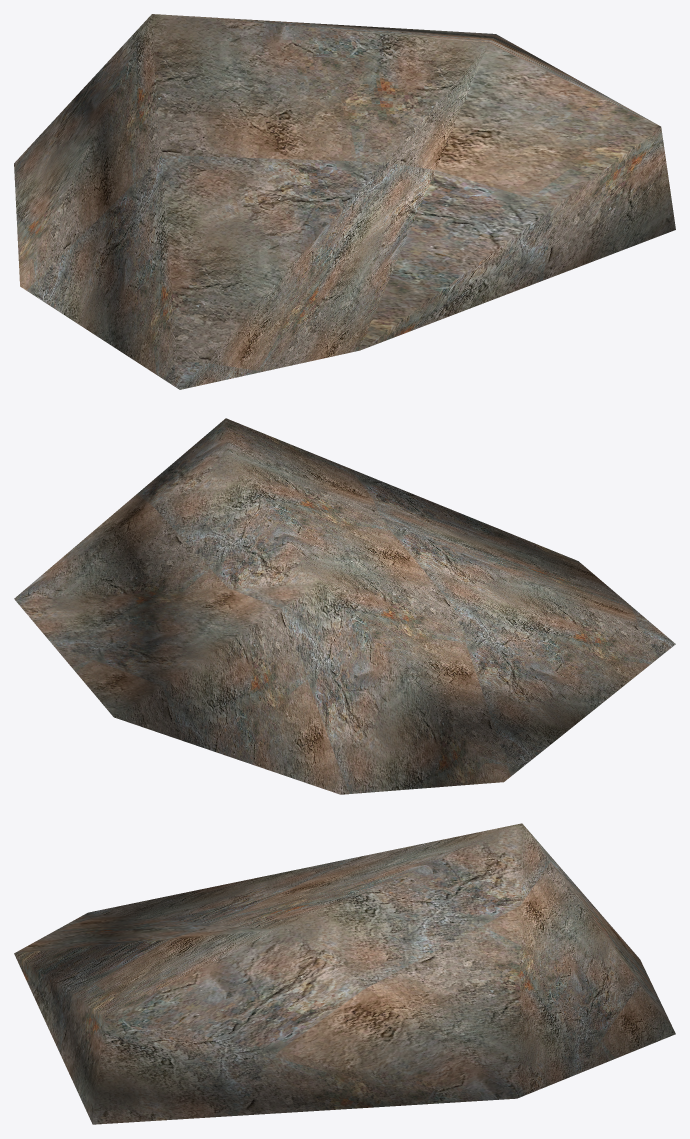
Rendered from rock_forestrock_lg_l3.fbx.
The picture shows the model from 3 angles, top to bottom: view 1: azimuth 30°, elevation 25°; view 2: azimuth 150°, elevation 25°; view 3: azimuth 270°, elevation 25°; orthographic projection. The views are drawn at different scales.
Parts seen in each view (by area): view 1: mesh_node; view 2: mesh_node; view 3: mesh_node.
Boxes of the visible parts, bbox=[...] form: mesh_node: bbox=[14, 14, 675, 389]; mesh_node: bbox=[14, 418, 675, 794]; mesh_node: bbox=[14, 823, 675, 1124].
Size of the model in its own units: 1.2 by 0.4532 by 1.27.
